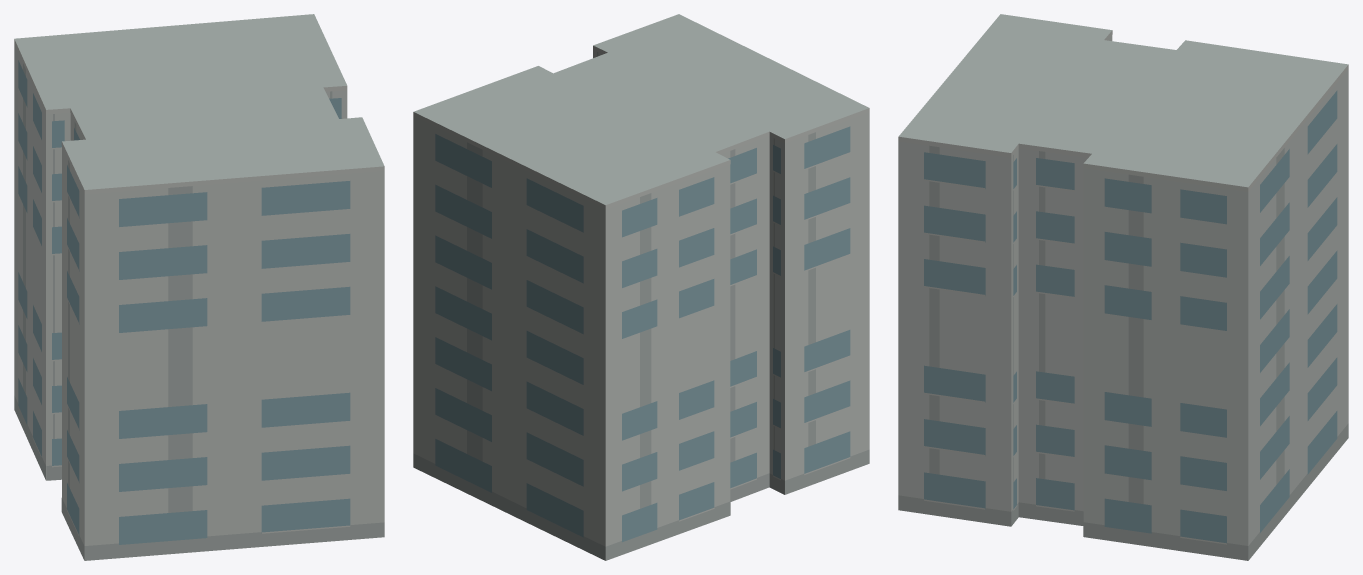
The model's file is survey-upis-32993642.glb.
3 views of the same model, side by side, from view 1: azimuth 30°, elevation 25°; view 2: azimuth 150°, elevation 25°; view 3: azimuth 270°, elevation 25° (orthographic). The views are drawn at different scales.
Visible parts, largest first — view 1: survey-upis-32993642.tmp; view 2: survey-upis-32993642.tmp; view 3: survey-upis-32993642.tmp.
Boxes of the visible parts, x1,y1,x2,y2 form: survey-upis-32993642.tmp: (14,14,384,560); survey-upis-32993642.tmp: (413,14,869,560); survey-upis-32993642.tmp: (898,14,1348,560).
Size of the model in its own units: 19.81 by 19.9 by 21.74.
